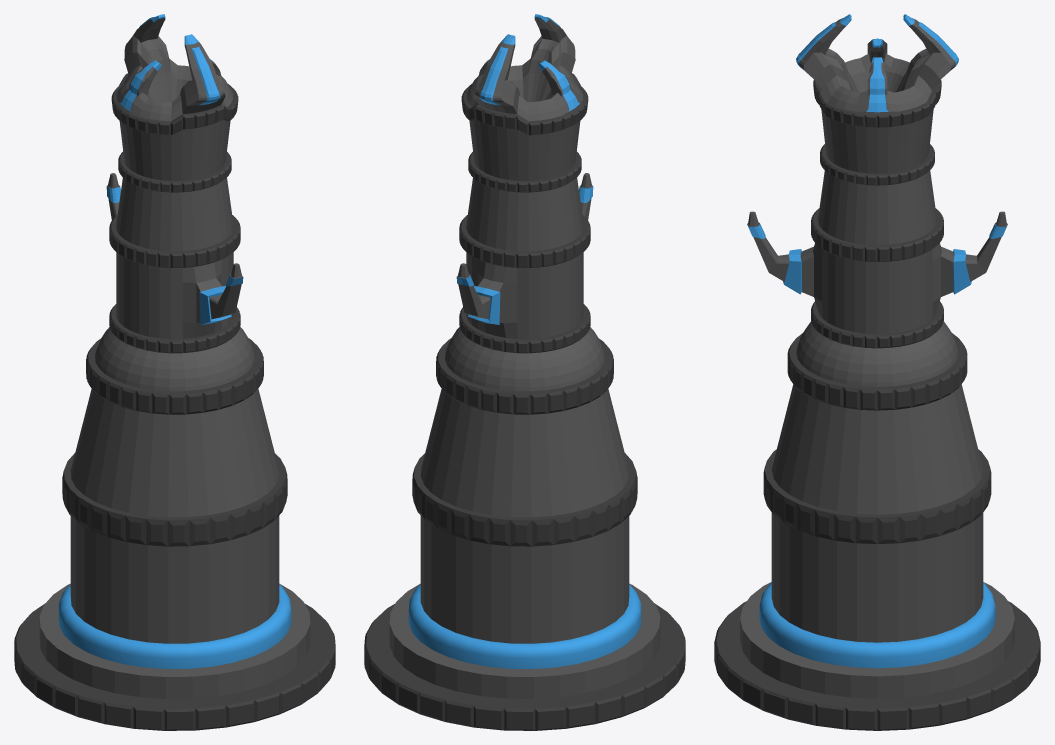
File: BeamTowerUpgrade1.fbx
The picture shows the model from 3 angles, left to right: view 1: azimuth 30°, elevation 25°; view 2: azimuth 150°, elevation 25°; view 3: azimuth 270°, elevation 25°; orthographic projection.
Visible parts, largest first — view 1: BeamUpgrade1; view 2: BeamUpgrade1; view 3: BeamUpgrade1.
Boxes of the visible parts, x1,y1,x2,y2 form: BeamUpgrade1: (14,14,335,730); BeamUpgrade1: (364,14,685,730); BeamUpgrade1: (714,14,1040,730).
Size of the model in its own units: 392 by 858 by 392.
